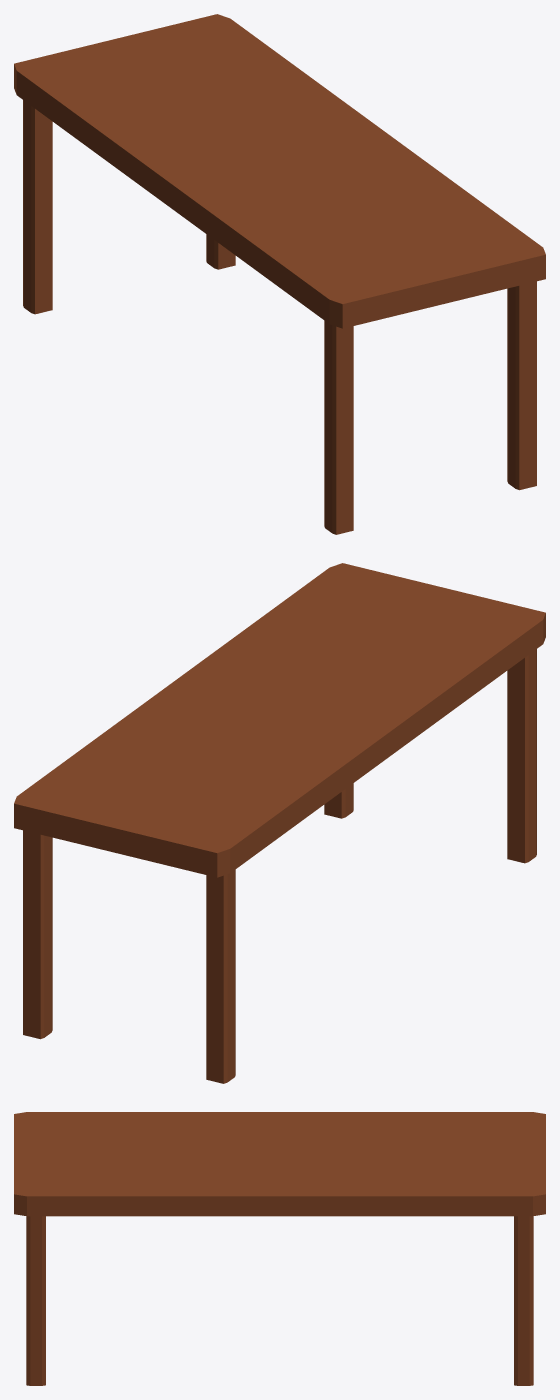
The model's file is tafel2.fbx.
3 renders of one model, top to bottom at view 1: azimuth 30°, elevation 25°; view 2: azimuth 150°, elevation 25°; view 3: azimuth 270°, elevation 25°, orthographic. The views are drawn at different scales.
Parts seen in each view (by area): view 1: Cube; view 2: Cube; view 3: Cube.
Part boxes in pixels (box(x1,y1,x2,y2)): Cube: box(14, 14, 545, 534); Cube: box(14, 563, 545, 1083); Cube: box(14, 1112, 545, 1385).
Size of the model in its own units: 298 by 315 by 793.
